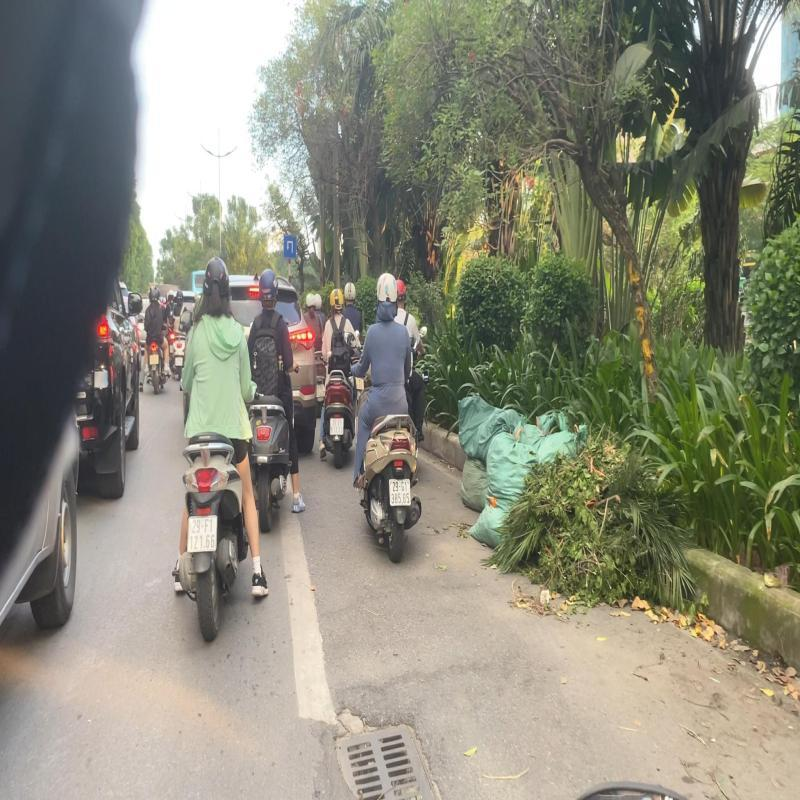helmet: (202, 257, 231, 296), (376, 273, 398, 305), (258, 270, 280, 300), (330, 288, 344, 312), (344, 282, 356, 302), (306, 292, 317, 308), (149, 287, 160, 303)
licenseplate: (186, 515, 217, 553), (389, 479, 412, 506), (330, 418, 344, 435), (150, 354, 159, 367)
motorcyclist: (172, 257, 269, 642), (351, 272, 423, 564), (245, 269, 307, 534), (320, 290, 360, 470), (142, 286, 172, 395)
